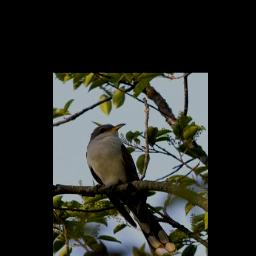Cuckoo: (86, 123, 177, 256)
